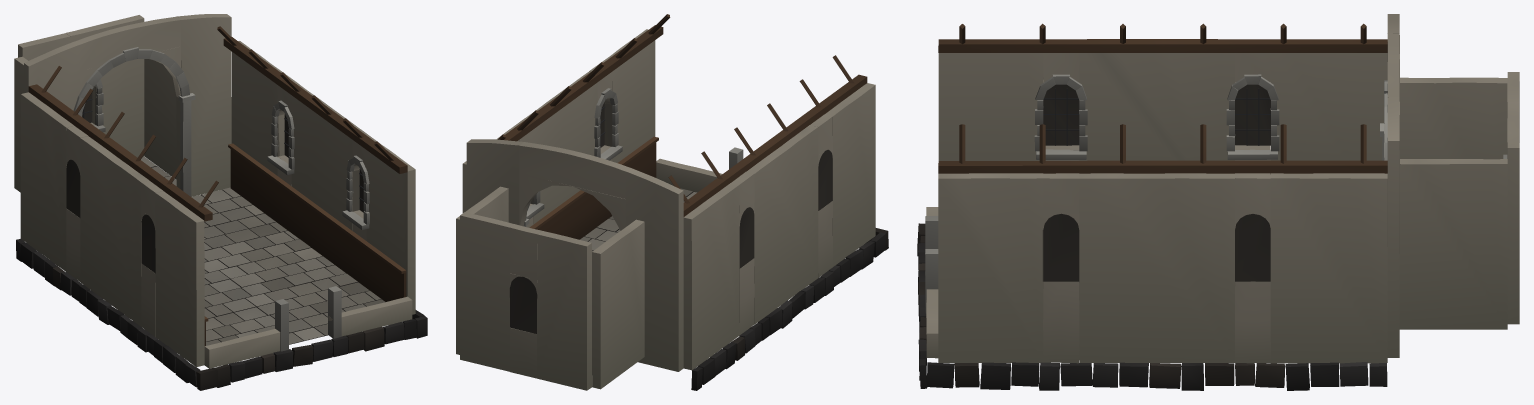
Rendered from ph_int_chapel_room.glb.
3 renders of one model, left to right at view 1: azimuth 30°, elevation 25°; view 2: azimuth 150°, elevation 25°; view 3: azimuth 270°, elevation 25°, orthographic. The views are drawn at different scales.
Parts seen in each view (by area): view 1: ph_int_chapel_room; view 2: ph_int_chapel_room; view 3: ph_int_chapel_room.
Boxes of the visible parts, left/top/right/bottom form: ph_int_chapel_room: left=14, top=14, right=427, bottom=390; ph_int_chapel_room: left=456, top=14, right=888, bottom=390; ph_int_chapel_room: left=917, top=14, right=1519, bottom=390.
Bounding box in the file's own units: 5.69 × 4.76 × 10.06.
